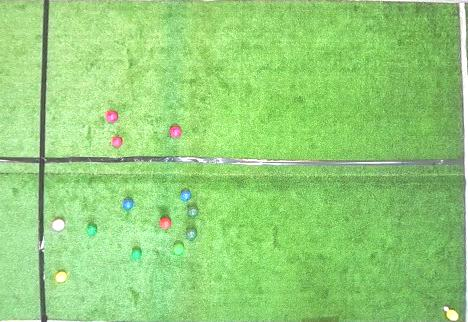blue: (123, 199, 134, 210), (180, 190, 191, 201)
green: (173, 243, 184, 255), (186, 228, 197, 239), (131, 248, 142, 259), (86, 224, 97, 235), (187, 207, 198, 217)
red: (52, 219, 65, 231), (160, 217, 171, 229), (106, 111, 118, 122), (170, 126, 181, 137), (112, 137, 123, 147)
vline: (1, 0, 50, 321), (457, 0, 467, 322)
white: (444, 306, 449, 311)
yellow: (446, 309, 458, 321), (55, 271, 67, 282)
